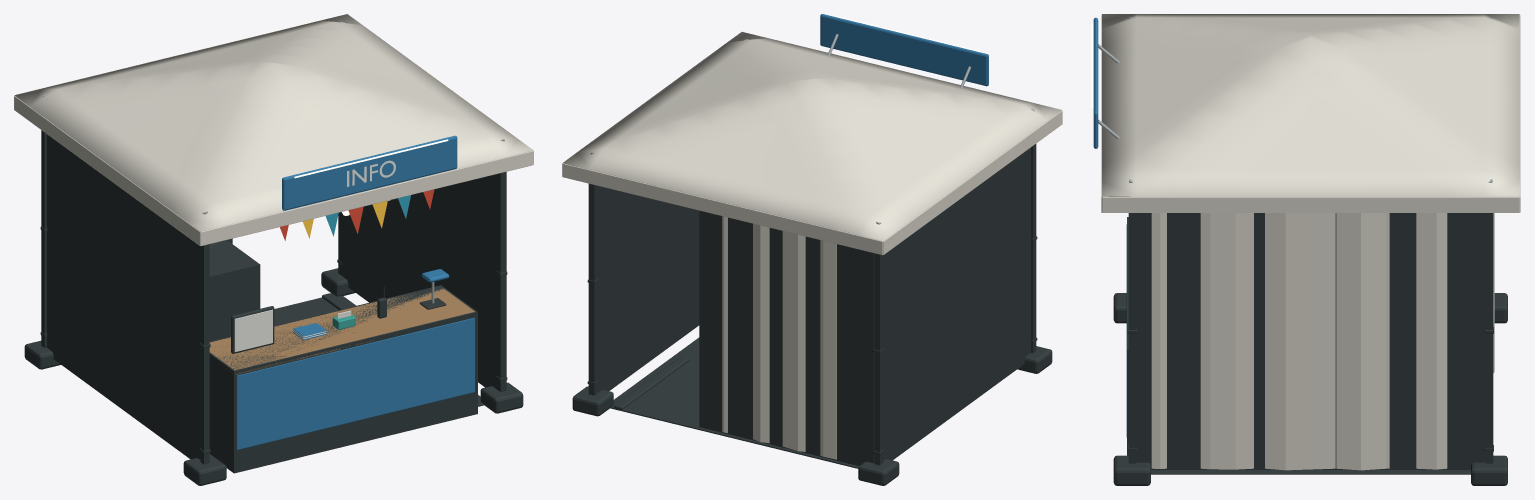
File: SIMUS_Festival_Booth_Info.fbx
The picture shows the model from 3 angles, left to right: view 1: azimuth 30°, elevation 25°; view 2: azimuth 150°, elevation 25°; view 3: azimuth 270°, elevation 25°; orthographic projection. The views are drawn at different scales.
Visible parts, largest first — view 1: FESTIVAL_BOOTH_CANOPY_FABRIC_Info, COL_Info_PANEL_LEFT, FESTIVAL_BOOTH_COUNTER_FASCIA_Info, COL_Info_PANEL_RIGHT, COL_Info_COUNTER, FESTIVAL_BOOTH_COUNTER_TOP_Info, Main_Sign_Board_Info, Canopy_Hem_0_-1_Info, COL_Info_TABLE, FESTIVAL_BOOTH_WEIGHTS_BLOCKS_Info, Canopy_Hem_1_-1_Info, COL_Info_POST_-1.4_-1.3 (+5 smaller); view 2: FESTIVAL_BOOTH_CANOPY_FABRIC_Info, COL_Info_PANEL_LEFT, COL_Info_PANEL_BACK, COL_Info_PANEL_RIGHT, FESTIVAL_BOOTH_PANEL_BACK_FABRIC_Info, Main_Sign_Board_Info, Canopy_Hem_0_1_Info, FESTIVAL_BOOTH_FLOOR_MAT_MESH_Info, Canopy_Hem_1_-1_Info, FESTIVAL_BOOTH_WEIGHTS_BLOCKS_Info, COL_Info_POST_-1.4_1.3, COL_Info_POST_1.4_1.3 (+2 smaller); view 3: FESTIVAL_BOOTH_CANOPY_FABRIC_Info, FESTIVAL_BOOTH_PANEL_RIGHT_FABRIC_Info, COL_Info_PANEL_RIGHT, Canopy_Hem_1_1_Info, FESTIVAL_BOOTH_WEIGHTS_BLOCKS_Info, COL_Info_POST_1.4_1.3, COL_Info_POST_1.4_-1.3, FESTIVAL_BOOTH_FLOOR_MAT_MESH_Info, Main_Sign_Board_Info, COL_Info_COUNTER.
Boxes of the visible parts, x1,y1,x2,y2 form: FESTIVAL_BOOTH_CANOPY_FABRIC_Info: (14,14,533,231); COL_Info_PANEL_LEFT: (47,134,200,459); FESTIVAL_BOOTH_COUNTER_FASCIA_Info: (237,317,474,449); COL_Info_PANEL_RIGHT: (341,174,497,389); COL_Info_COUNTER: (209,285,477,473); FESTIVAL_BOOTH_COUNTER_TOP_Info: (209,288,474,374); Main_Sign_Board_Info: (282,135,457,210); Canopy_Hem_0_-1_Info: (200,151,533,246); COL_Info_TABLE: (209,240,260,341); FESTIVAL_BOOTH_WEIGHTS_BLOCKS_Info: (24,268,523,485); Canopy_Hem_1_-1_Info: (14,96,200,245); COL_Info_POST_-1.4_-1.3: (200,244,209,464); FESTIVAL_BOOTH_CANOPY_FABRIC_Info: (563,32,1061,241); COL_Info_PANEL_LEFT: (883,147,1030,460); COL_Info_PANEL_BACK: (699,210,874,465); COL_Info_PANEL_RIGHT: (597,186,699,392); FESTIVAL_BOOTH_PANEL_BACK_FABRIC_Info: (722,216,836,459); Main_Sign_Board_Info: (820,14,988,86); Canopy_Hem_0_1_Info: (562,163,882,255); FESTIVAL_BOOTH_FLOOR_MAT_MESH_Info: (610,337,858,468); Canopy_Hem_1_-1_Info: (883,110,1062,254); FESTIVAL_BOOTH_WEIGHTS_BLOCKS_Info: (572,346,1052,485); COL_Info_POST_-1.4_1.3: (874,253,883,465); COL_Info_POST_1.4_1.3: (588,183,597,395); FESTIVAL_BOOTH_CANOPY_FABRIC_Info: (1102,14,1519,196); FESTIVAL_BOOTH_PANEL_RIGHT_FABRIC_Info: (1151,213,1447,470); COL_Info_PANEL_RIGHT: (1136,213,1485,469); Canopy_Hem_1_1_Info: (1102,196,1519,212); FESTIVAL_BOOTH_WEIGHTS_BLOCKS_Info: (1113,293,1507,485); COL_Info_POST_1.4_1.3: (1485,213,1493,463); COL_Info_POST_1.4_-1.3: (1128,213,1135,463); FESTIVAL_BOOTH_FLOOR_MAT_MESH_Info: (1151,470,1470,474); Main_Sign_Board_Info: (1093,17,1098,148); COL_Info_COUNTER: (1127,217,1128,455).
Size of the model in its own units: 315 by 289 by 312.
